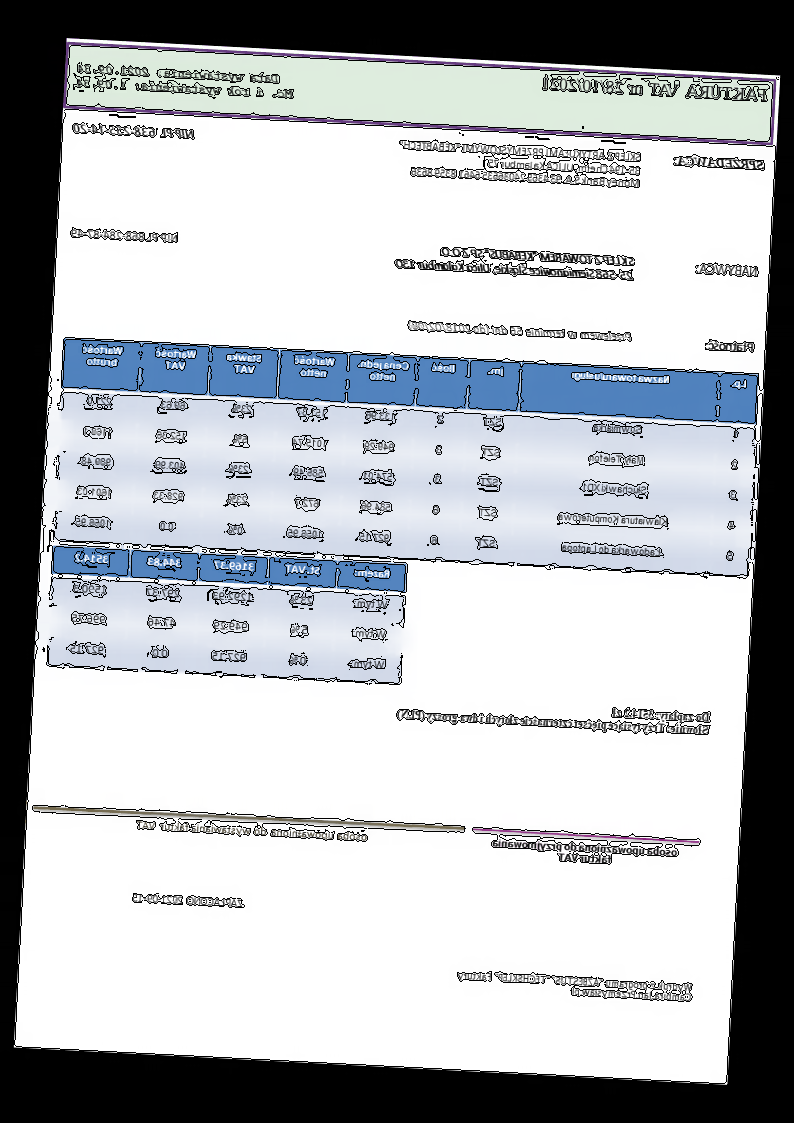Table: (52, 336, 760, 579), (45, 544, 409, 686)
TextBox: (396, 694, 713, 739), (395, 137, 645, 191), (394, 243, 637, 283), (75, 61, 297, 102), (455, 968, 695, 1005), (540, 74, 770, 105), (489, 834, 680, 870), (407, 317, 634, 345), (135, 817, 370, 844), (71, 120, 197, 142), (132, 891, 246, 910), (70, 227, 180, 245), (672, 154, 767, 172), (695, 261, 760, 279), (703, 337, 756, 355)
